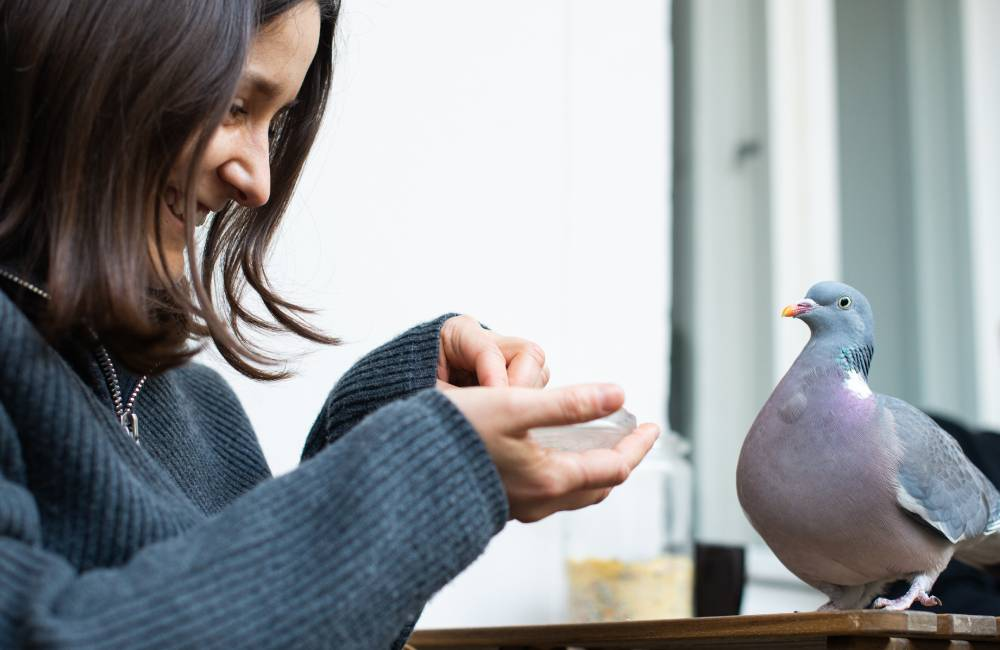Flying Rat: (725, 261, 1000, 621)
